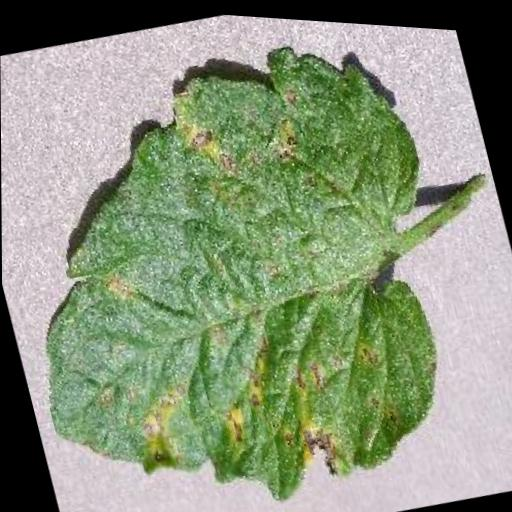Septoria: (0, 1, 494, 512)
